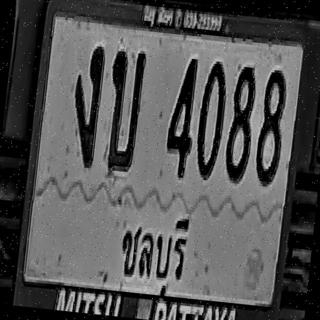A07: (67, 43, 106, 167)
A26: (101, 46, 146, 175)
N00: (194, 58, 228, 178)
N04: (163, 54, 200, 178)
N08: (253, 66, 288, 185), (223, 63, 258, 182)
P13: (112, 197, 196, 299)
